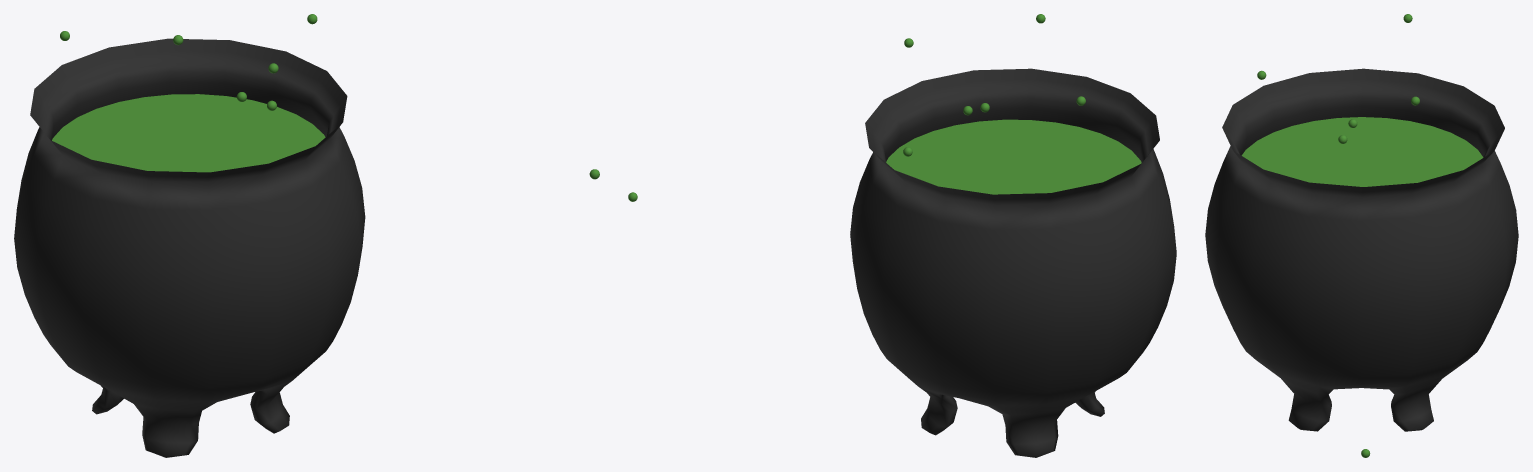
The picture shows the model from 3 angles, left to right: view 1: azimuth 30°, elevation 25°; view 2: azimuth 150°, elevation 25°; view 3: azimuth 270°, elevation 25°; orthographic projection. The views are drawn at different scales.
Parts seen in each view (by area): view 1: Cube, 円; view 2: Cube, 円; view 3: Cube, 円.
Part boxes in pixels (left/top/right/bottom): Cube: left=14, top=38, right=365, bottom=457; 円: left=52, top=94, right=325, bottom=172; Cube: left=850, top=68, right=1176, bottom=457; 円: left=886, top=119, right=1141, bottom=194; Cube: left=1205, top=68, right=1518, bottom=431; 円: left=1241, top=117, right=1483, bottom=186.
Bounding box in the file's own units: 598 × 397 × 324.
